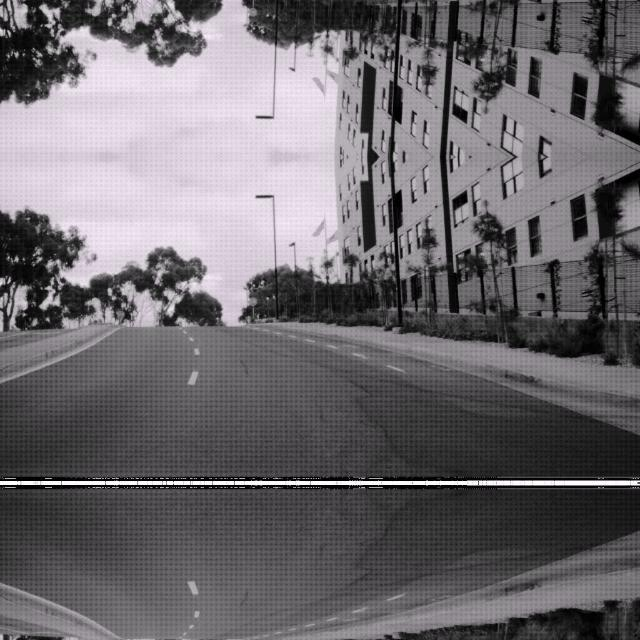stop: (248, 295, 256, 305), (248, 7, 256, 17), (116, 309, 124, 317), (116, 0, 125, 4)
